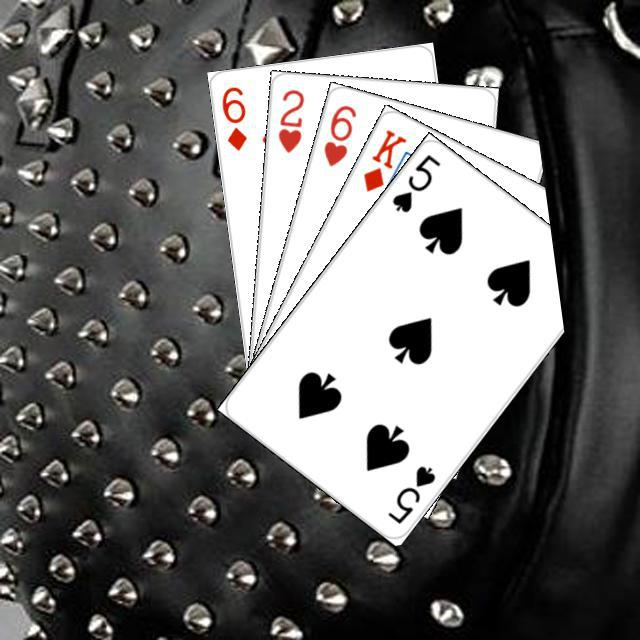2h: (273, 84, 306, 154)
5s: (387, 149, 443, 215), (382, 460, 437, 526)
6d: (216, 81, 249, 153)
6h: (318, 100, 358, 169)
Kd: (358, 124, 409, 194)
